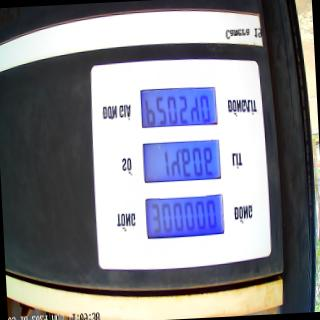screen: (137, 82, 227, 244)
